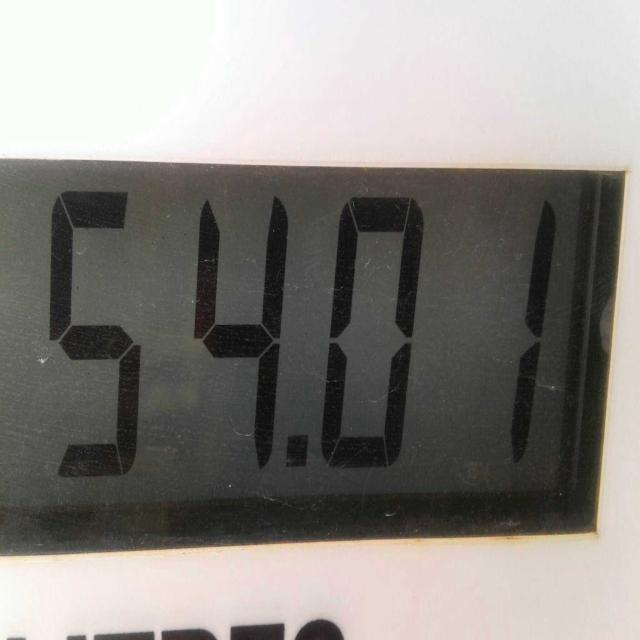.: (282, 421, 324, 501)
0: (328, 198, 432, 507)
1: (520, 195, 545, 475)
4: (190, 192, 288, 474)
5: (35, 182, 156, 476)
